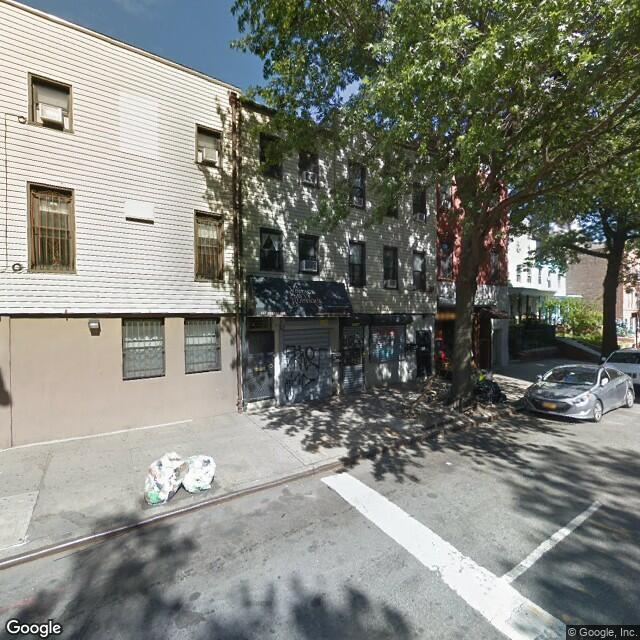litter: (129, 449, 232, 506)
